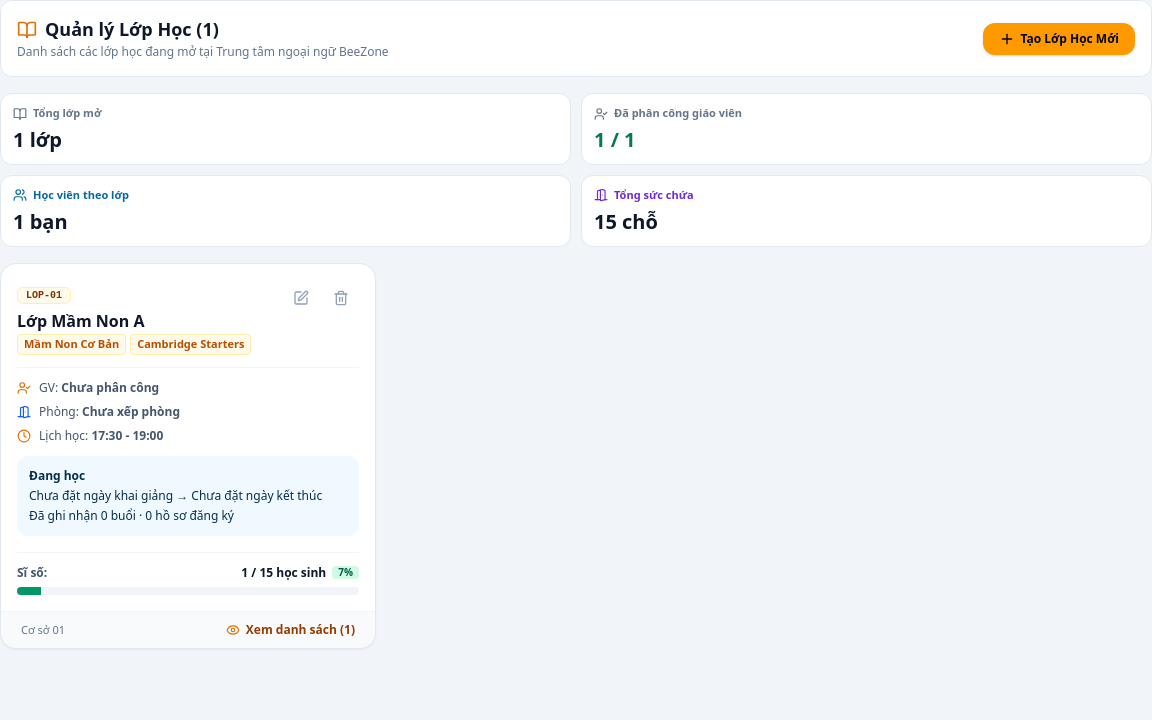
Test: ClassManager allows multi-program selection with checkboxes
The image size is (1152, 720).
Note: Open edit modal for the class
Click the button named "Sửa lớp Lớp Mầm Non A" at (301, 298), box [283,280,319,316]
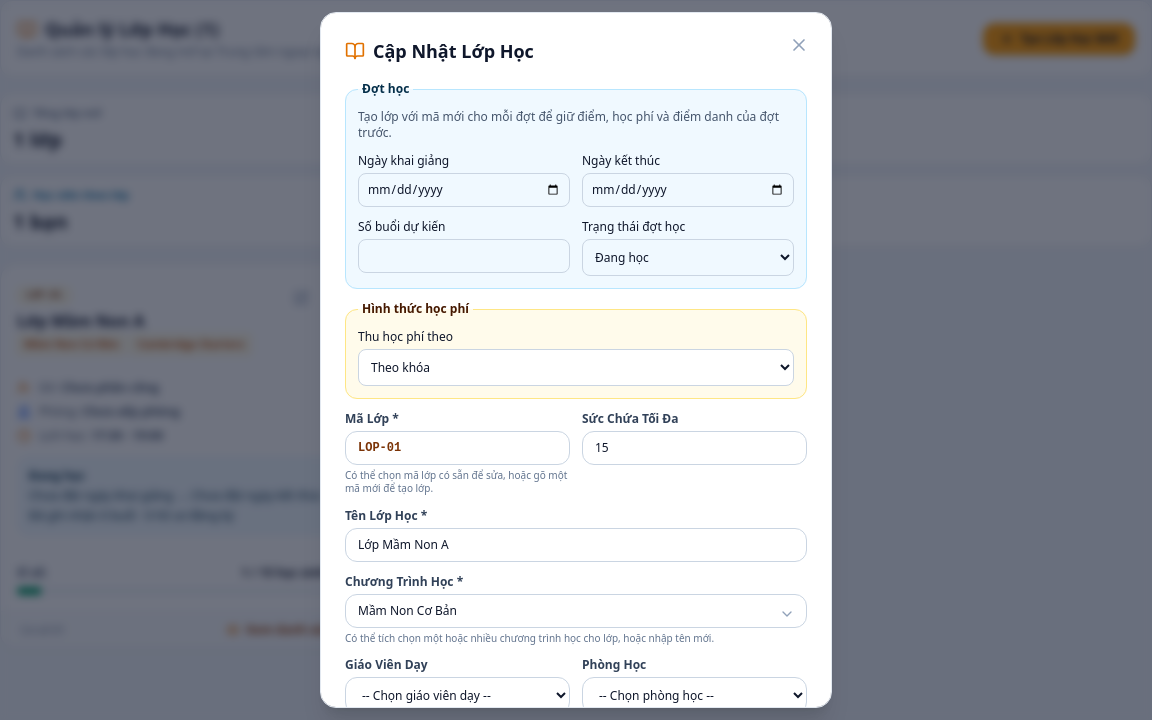
Check: the heading "Cập Nhật Lớp Học" is shown, box [345,39,534,63]
Note: Open program dropdown
Click the field with placeholder "Chọn chương trình đã import hoặc nhập mới" below "Chương Trình Học *" at (576, 611), box [345,594,807,628]
(page scrolled)
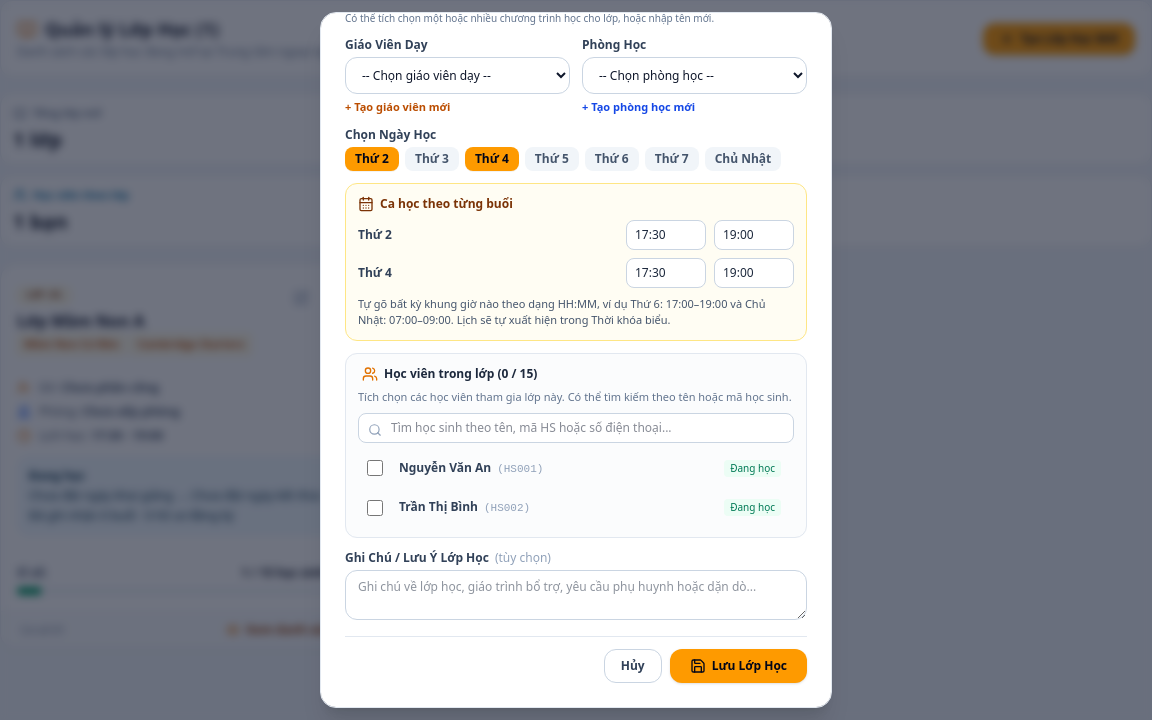
Check: the checkbox labelled "Nguyễn Văn An(HS001) Đang học" is shown, box [367,460,383,476]
